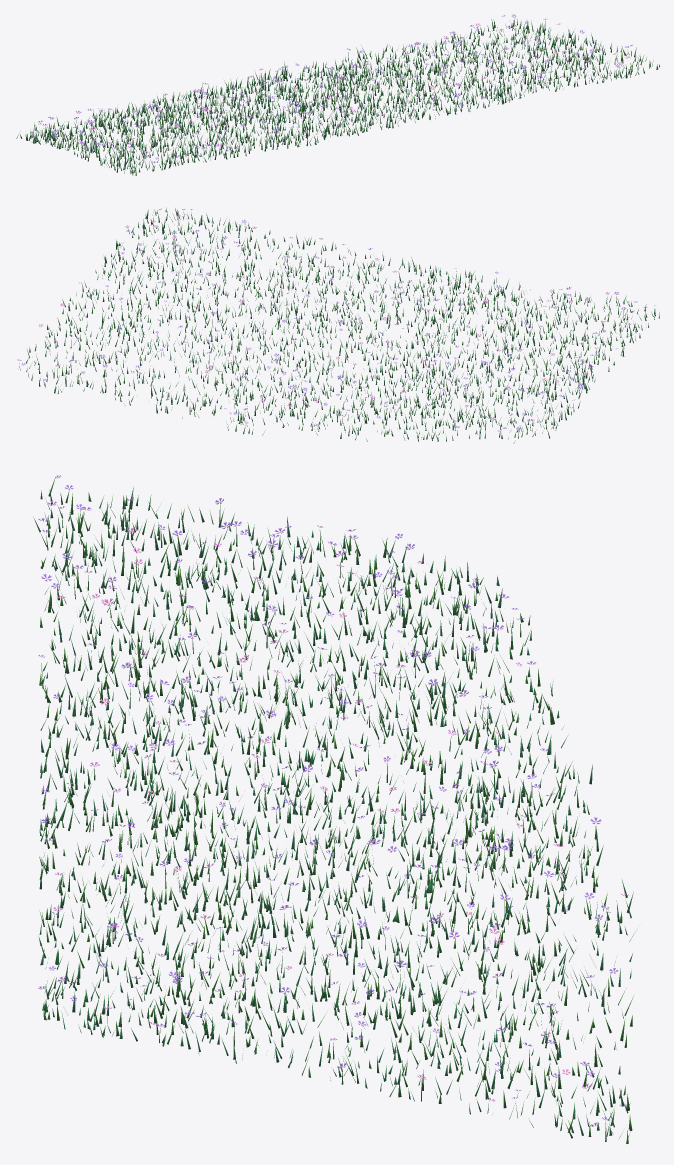
3 renders of one model, top to bottom at view 1: azimuth 30°, elevation 25°; view 2: azimuth 150°, elevation 25°; view 3: azimuth 270°, elevation 25°, orthographic. The views are drawn at different scales.
Parts seen in each view (by area): view 1: gc_33; view 2: gc_33; view 3: gc_33.
Boxes of the visible parts, x1,y1,x2,y2 form: gc_33: (16,14,659,175); gc_33: (17,207,659,443); gc_33: (33,475,636,1143).
Size of the model in its own units: 18.2 by 3.21 by 9.27.
Materials: 1 (1 with a texture image).
